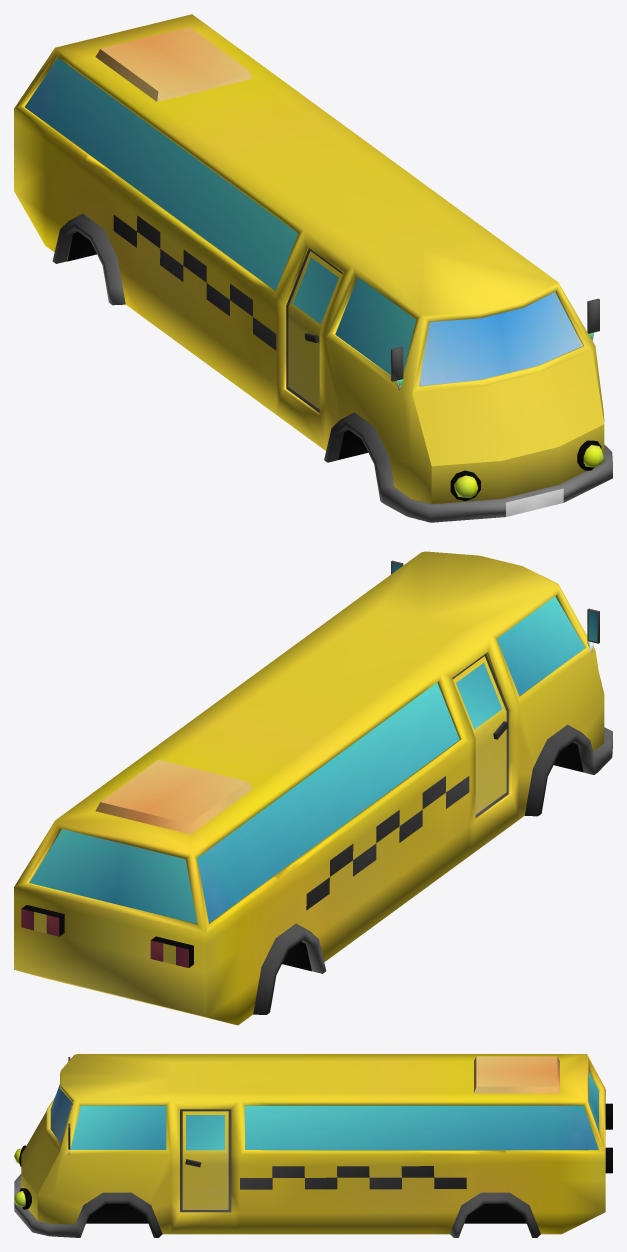
Rendered from Bus_1.fbx.
The picture shows the model from 3 angles, top to bottom: view 1: azimuth 30°, elevation 25°; view 2: azimuth 150°, elevation 25°; view 3: azimuth 270°, elevation 25°; orthographic projection. The views are drawn at different scales.
Parts seen in each view (by area): view 1: Bus_1; view 2: Bus_1; view 3: Bus_1.
Part boxes in pixels (x1,y1,x2,y2): Bus_1: (14,14,612,522); Bus_1: (14,551,612,1025); Bus_1: (14,1054,612,1237).
Bounding box in the file's own units: 223 × 186 × 777.
1 material, 1 textured.
